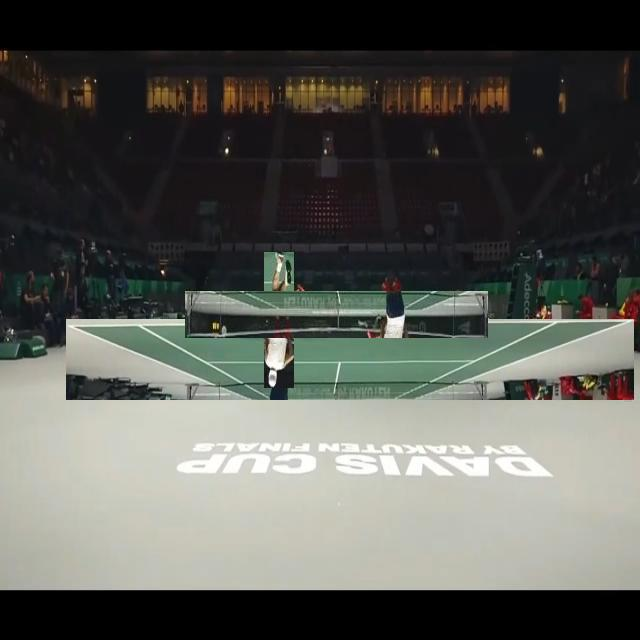court: (66, 319, 634, 402)
net: (186, 292, 490, 340)
player: (264, 252, 294, 388)
